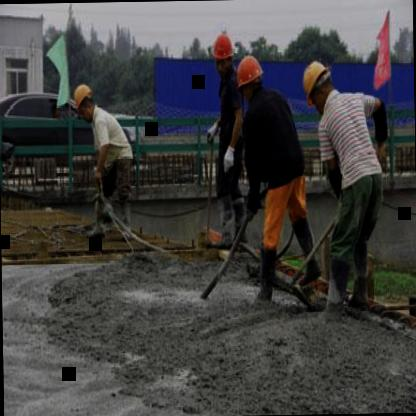helmet: (298, 57, 336, 112), (234, 52, 264, 102), (211, 29, 236, 77), (70, 80, 96, 118)
